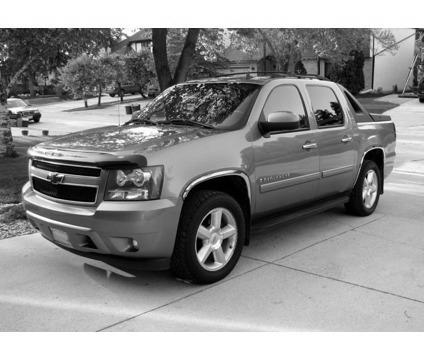car: (24, 76, 399, 288)
